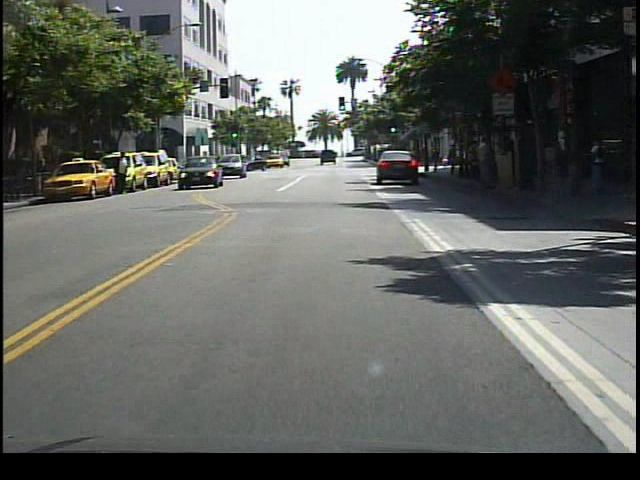person: (474, 132, 498, 197), (116, 147, 134, 198)
